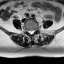CCS_normal: (30, 28, 32, 36)
LFS_normal: (34, 26, 36, 33)
LLS_normal: (32, 27, 34, 35)
RFS_normal: (26, 27, 28, 34)
RLS_normal: (28, 28, 30, 36)
